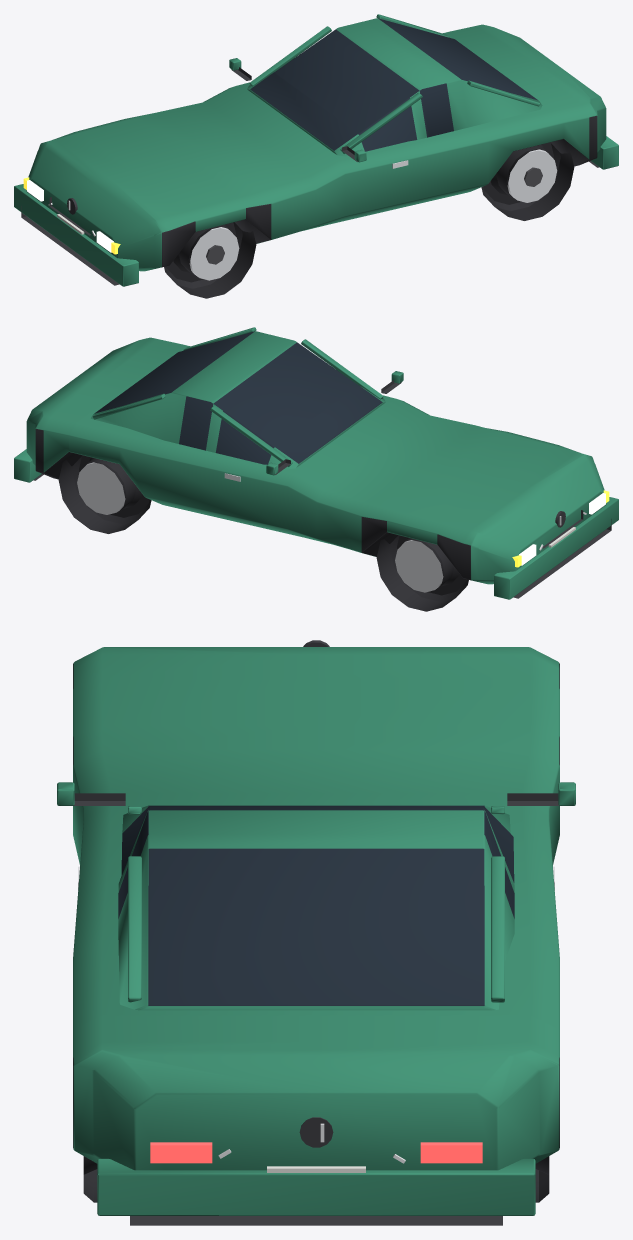
File: car_centaur.glb
3 views of the same model, one above another, from view 1: azimuth 30°, elevation 25°; view 2: azimuth 150°, elevation 25°; view 3: azimuth 270°, elevation 25° (orthographic). The views are drawn at different scales.
Bounding box in the file's own units: 1.9 × 0.5256 × 0.8585.
